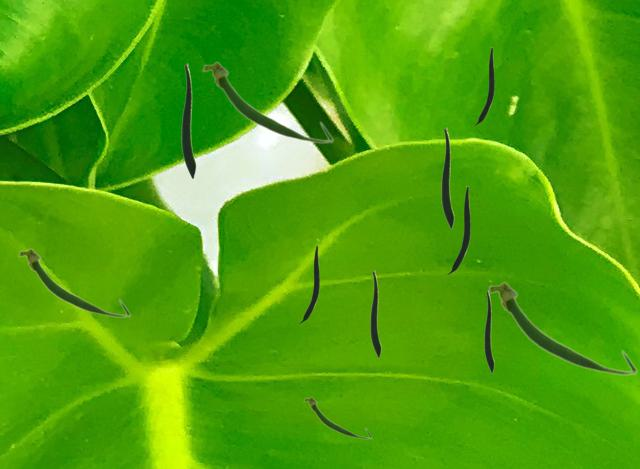french_bean: (488, 281, 637, 375), (201, 61, 333, 143), (17, 247, 130, 317), (303, 396, 371, 438), (447, 186, 469, 273), (181, 63, 195, 178), (299, 245, 318, 322), (474, 47, 493, 124), (441, 127, 453, 228), (370, 270, 380, 357), (484, 290, 493, 372)
